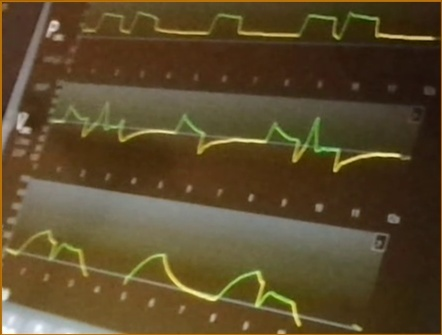Double_Triggering Flow: (53, 97, 399, 173)
Double_Triggering Volume: (9, 227, 303, 325)
